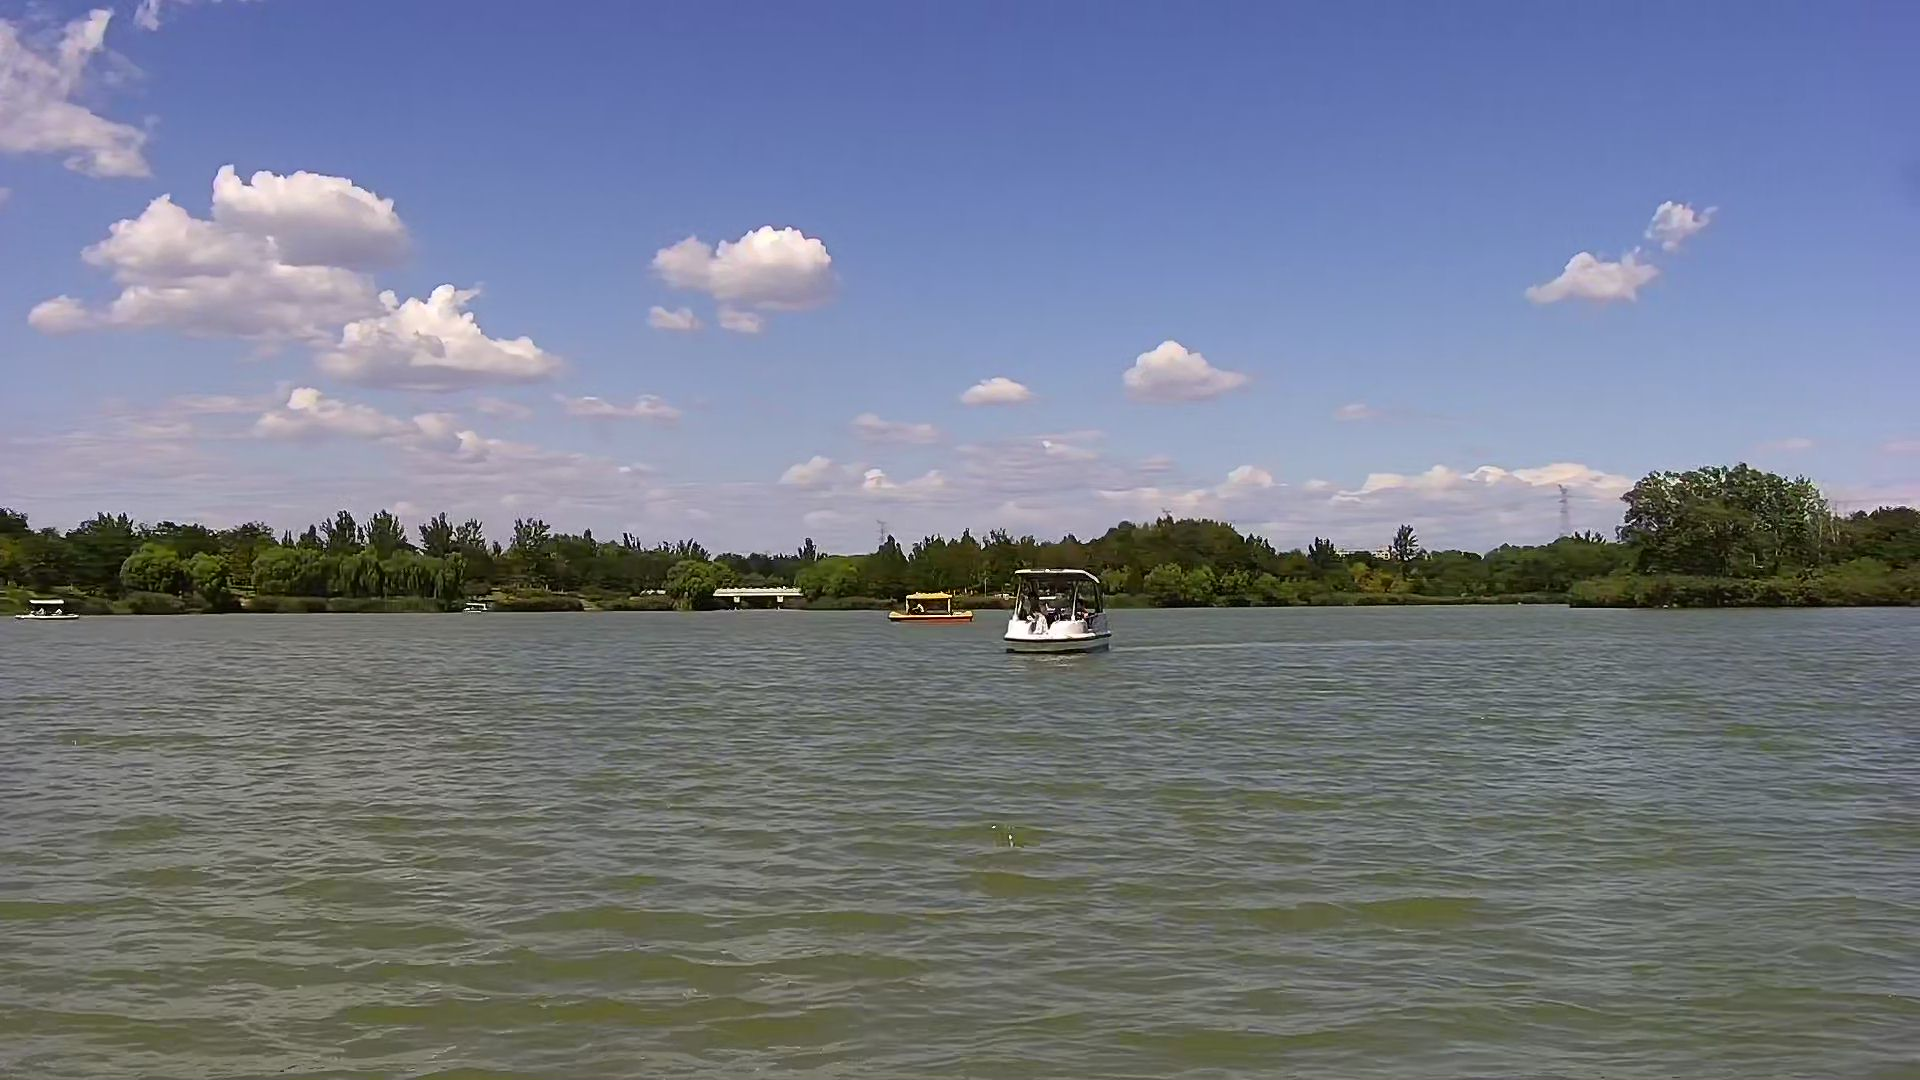boat: (1004, 560, 1110, 663), (893, 587, 975, 622), (11, 593, 74, 622)
bridge: (715, 587, 804, 617)
